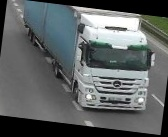truck: (12, 0, 161, 116)
